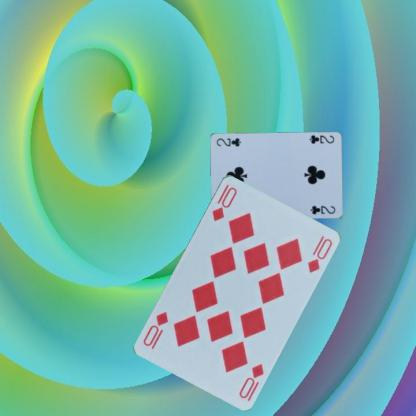10d: (236, 360, 266, 400), (209, 184, 238, 222)
2c: (307, 133, 335, 145)
